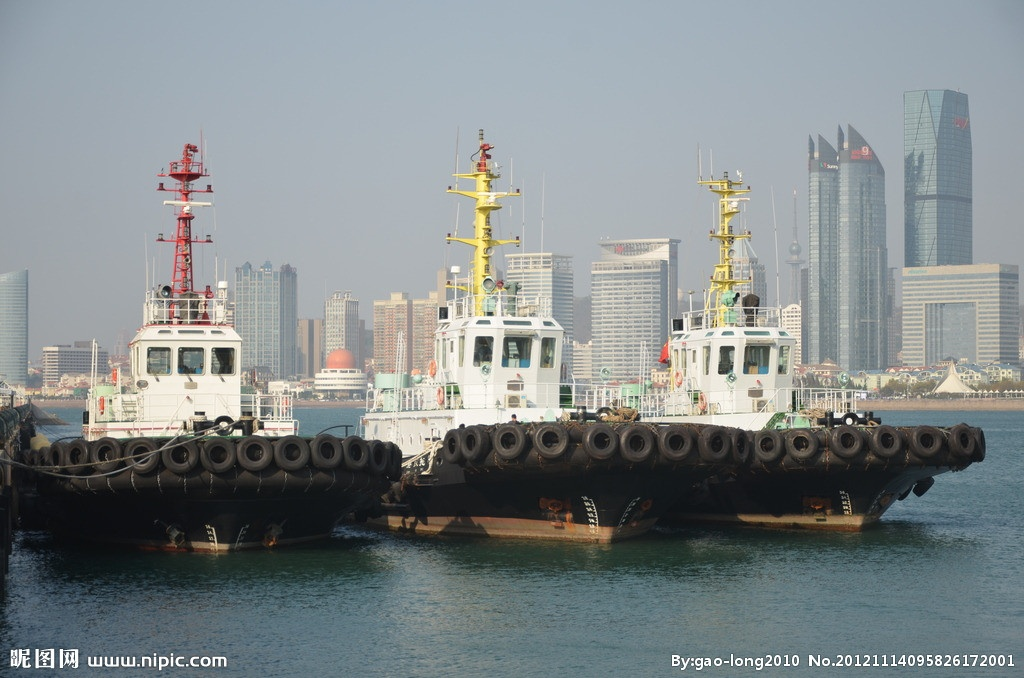otherboat: (339, 131, 756, 546), (633, 148, 991, 530), (26, 201, 399, 558)
